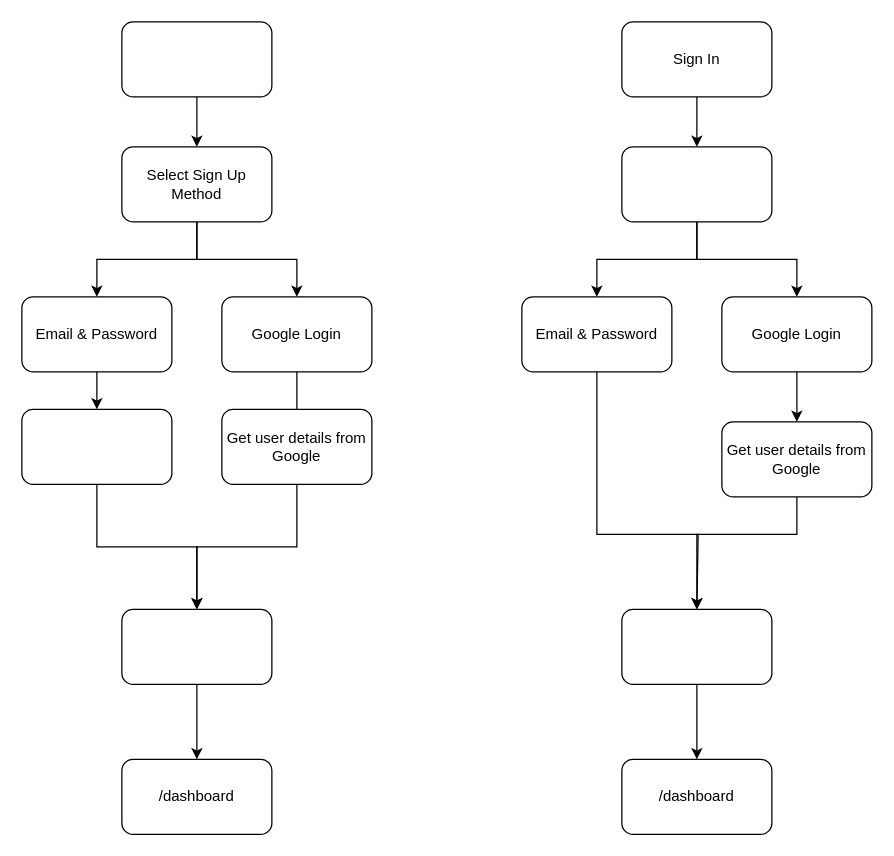
The diagram is 894 pixels wide and 856 high, and some of its shapes have lost their labels. The centre of each missing label's shape, as x and y in pixels:
"Email Verification" belongs at [96,446].
"Save User details in DB" belongs at [196,646].
"Select Sign In Method" belongs at [696,184].
"Sign up" belongs at [196,59].
"Validate User details in the DB" belongs at [696,646].
